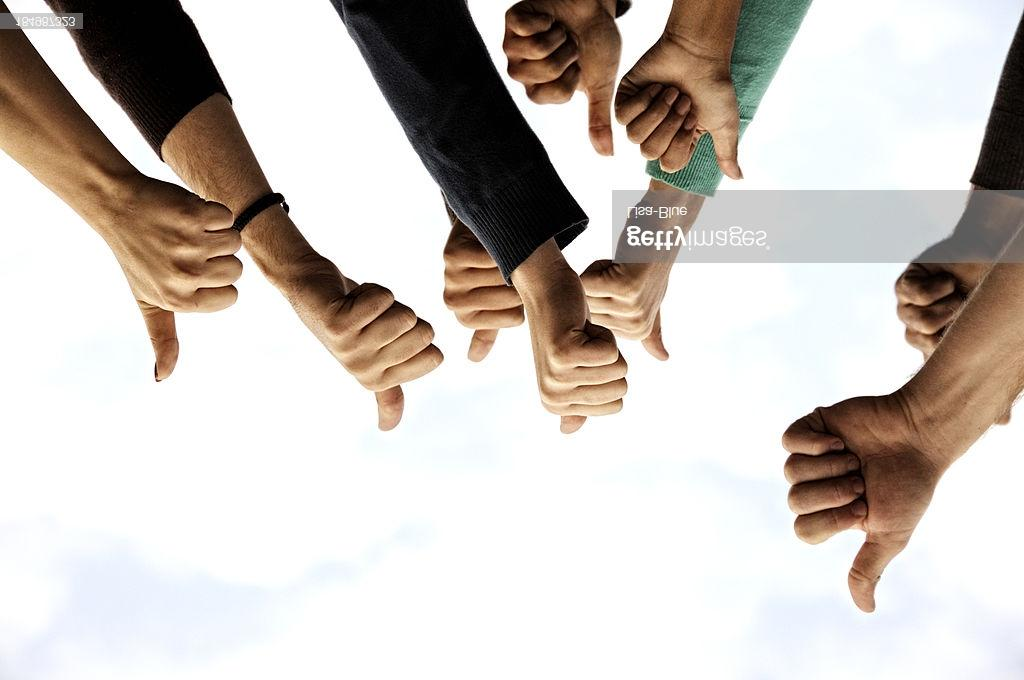thumbsdown: (782, 403, 885, 615), (143, 181, 244, 383), (321, 281, 444, 432), (500, 6, 615, 159), (615, 74, 745, 182), (578, 270, 670, 362), (444, 255, 522, 362)
